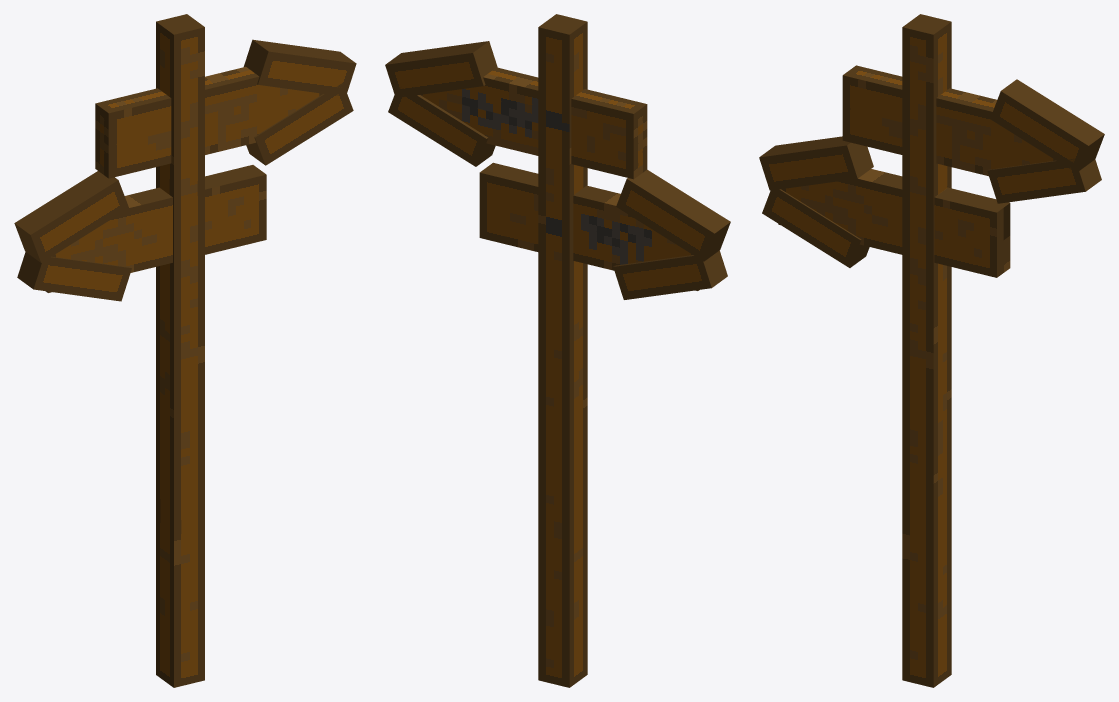
Rendered from signpost.glb.
The picture shows the model from 3 angles, left to right: view 1: azimuth 30°, elevation 25°; view 2: azimuth 150°, elevation 25°; view 3: azimuth 330°, elevation 25°; orthographic projection.
Visible parts, largest first — view 1: cube_0, cube_7, cube_2, cube_5, cube_1, cube_4, cube_6, cube_3; view 2: cube_0, cube_7, cube_2, cube_5, cube_1, cube_4, cube_6, cube_3; view 3: cube_0, cube_7, cube_2, cube_4, cube_1, cube_5, cube_3, cube_6.
Part boxes in pixels (<box>): cube_0: <box>156,14,204,687</box>; cube_7: <box>46,165,266,292</box>; cube_2: <box>95,66,322,145</box>; cube_5: <box>14,171,128,262</box>; cube_1: <box>95,94,322,178</box>; cube_4: <box>243,39,356,96</box>; cube_6: <box>17,252,131,301</box>; cube_3: <box>246,83,353,165</box>; cube_0: <box>538,14,587,687</box>; cube_7: <box>479,162,699,290</box>; cube_2: <box>421,67,647,146</box>; cube_5: <box>616,169,730,261</box>; cube_1: <box>420,94,647,179</box>; cube_4: <box>385,41,497,97</box>; cube_6: <box>613,250,727,299</box>; cube_3: <box>388,87,495,166</box>; cube_0: <box>902,14,951,687</box>; cube_7: <box>778,169,1010,277</box>; cube_2: <box>842,65,1054,159</box>; cube_4: <box>990,79,1104,173</box>; cube_1: <box>842,108,1055,176</box>; cube_5: <box>759,136,873,190</box>; cube_3: <box>987,158,1101,203</box>; cube_6: <box>762,189,869,267</box>.
Size of the model in its own units: 0.6566 by 1.25 by 0.0625.
Materials: 1 (1 with a texture image).
